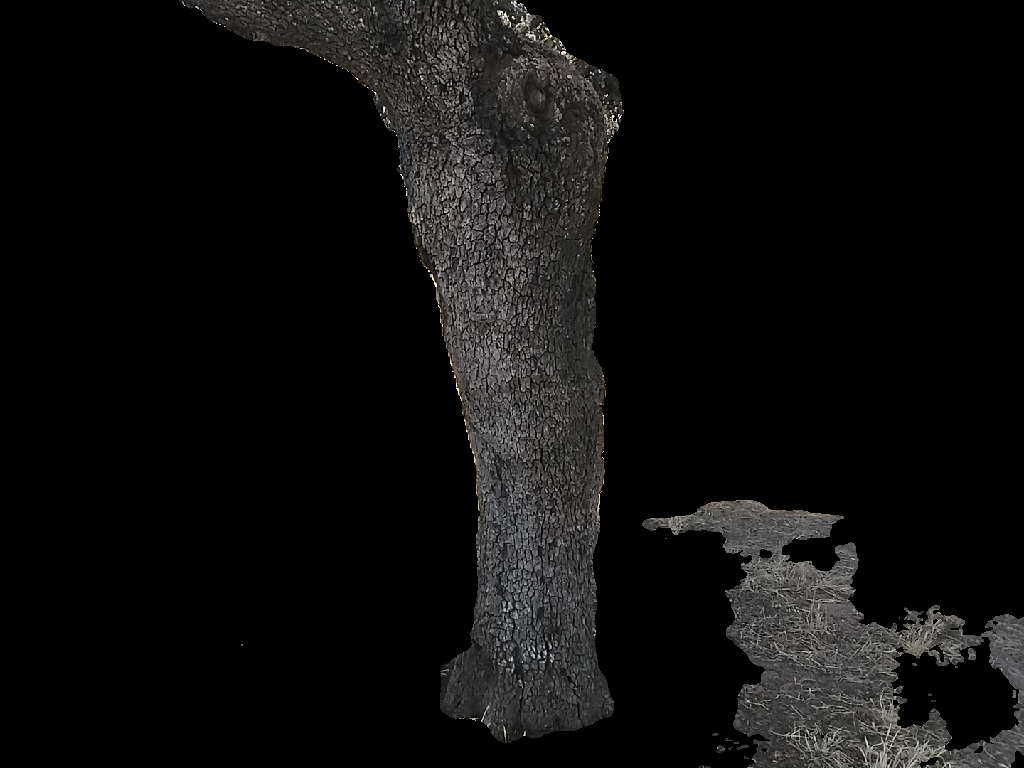Hole: (524, 81, 549, 113)
Injure: (568, 53, 622, 142)
